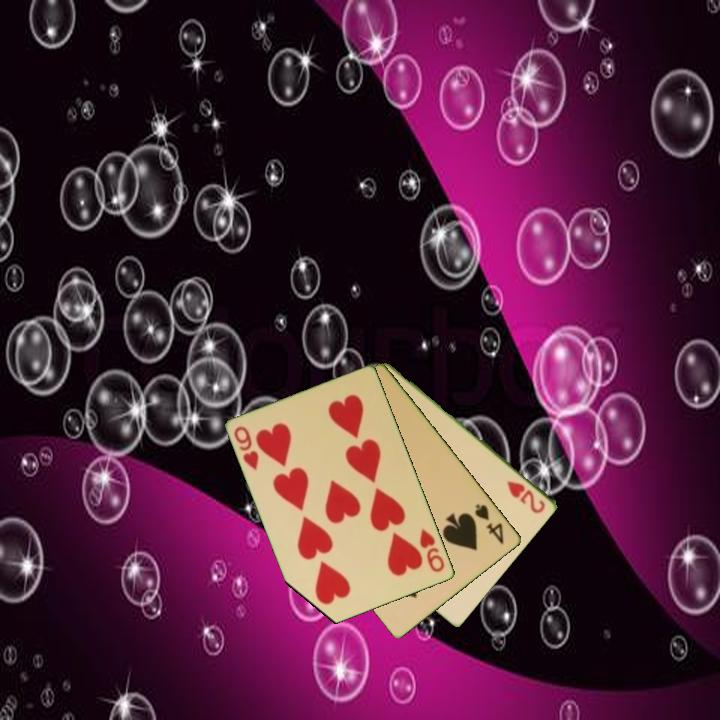2h: (503, 477, 549, 516)
4s: (471, 500, 507, 547)
9h: (416, 525, 448, 575), (231, 423, 262, 473)
